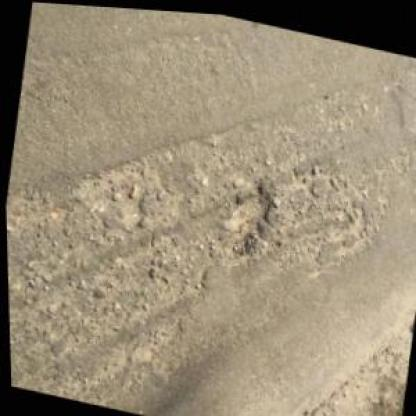pothole: (219, 173, 276, 254)
